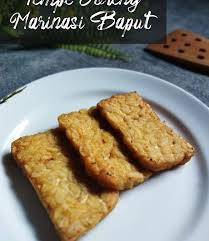Tempe goreng: (6, 128, 122, 241), (94, 90, 199, 172), (53, 104, 145, 190)
